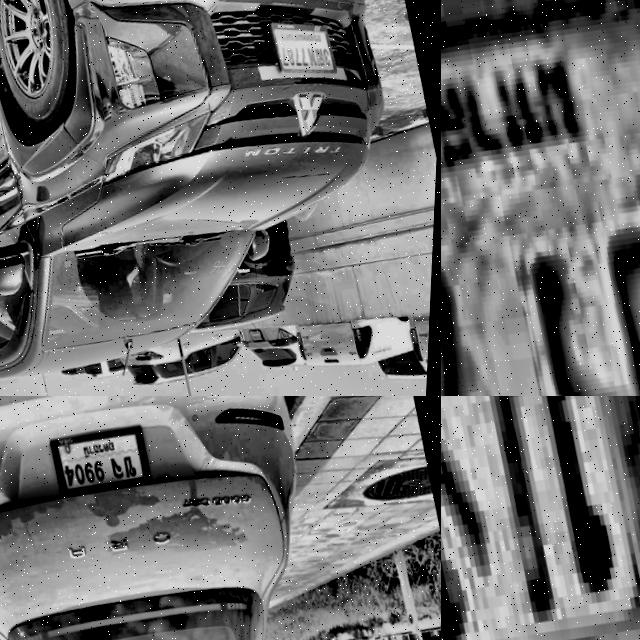license-plate: (441, 0, 640, 396), (441, 396, 640, 640), (48, 413, 155, 499), (267, 0, 341, 74), (250, 313, 269, 336)
